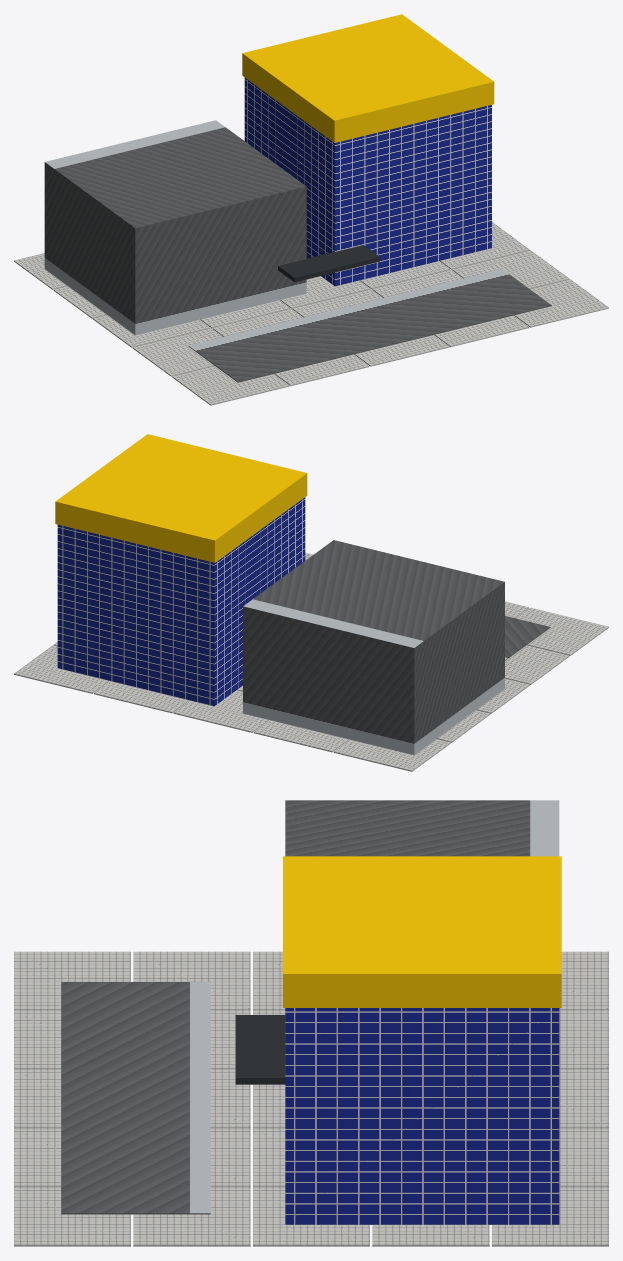
The picture shows the model from 3 angles, top to bottom: view 1: azimuth 30°, elevation 25°; view 2: azimuth 150°, elevation 25°; view 3: azimuth 270°, elevation 25°; orthographic projection. The views are drawn at different scales.
Parts seen in each view (by area): view 1: 28185_B36_Yujin_Robot_Songdo_HQ; view 2: 28185_B36_Yujin_Robot_Songdo_HQ; view 3: 28185_B36_Yujin_Robot_Songdo_HQ.
Part boxes in pixels (x1,y1,x2,y2): 28185_B36_Yujin_Robot_Songdo_HQ: [14, 14, 608, 405]; 28185_B36_Yujin_Robot_Songdo_HQ: [14, 434, 608, 771]; 28185_B36_Yujin_Robot_Songdo_HQ: [14, 800, 608, 1246].
Size of the model in its own units: 55.8 by 22.5 by 47.8.
Materials: 1 (1 with a texture image).
